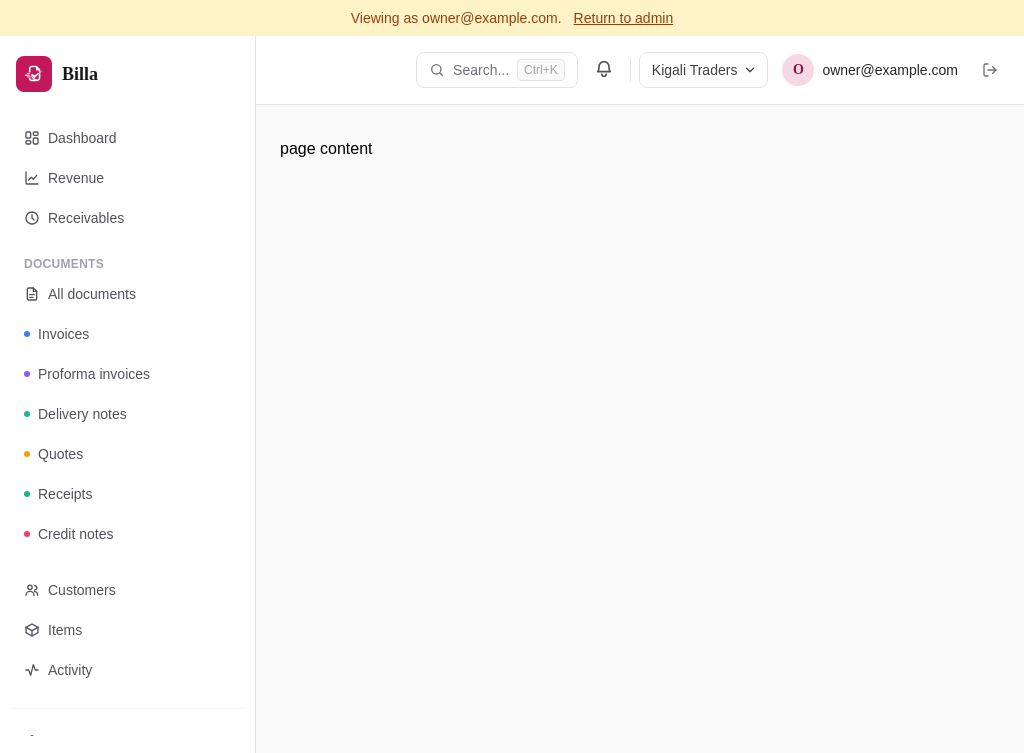
Test case: AppLayout › shows the impersonation banner and returns to admin on click
Expected: the text "Viewing as owner@example.com." is shown, [351, 8, 562, 28]
Click the button "Return to admin" at (623, 18), box [574, 8, 673, 28]
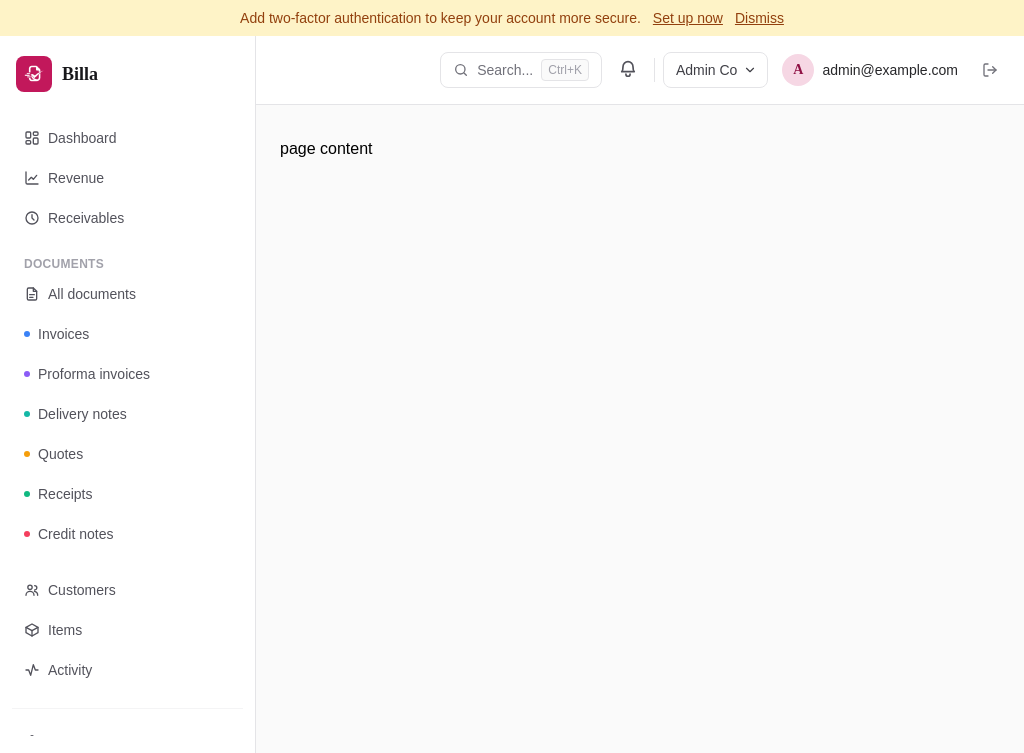
Expected: the text "Viewing as" is gone
